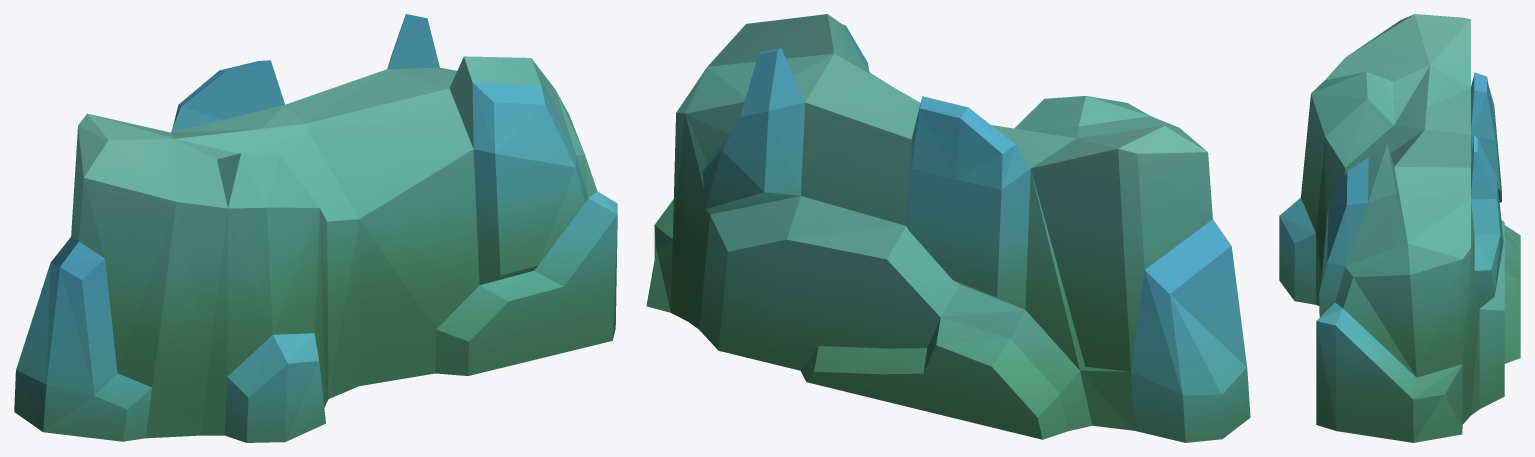
Rendered from Cliffc_lush.FBX.
3 renders of one model, left to right at view 1: azimuth 30°, elevation 25°; view 2: azimuth 150°, elevation 25°; view 3: azimuth 270°, elevation 25°, orthographic. The views are drawn at different scales.
Parts seen in each view (by area): view 1: cliffc_Lush; view 2: cliffc_Lush; view 3: cliffc_Lush.
Boxes of the visible parts, x1,y1,x2,y2 form: cliffc_Lush: [14, 14, 617, 442]; cliffc_Lush: [646, 14, 1250, 442]; cliffc_Lush: [1279, 14, 1520, 442].
Bounding box in the file's own units: 33.1 × 16.12 × 14.42.
